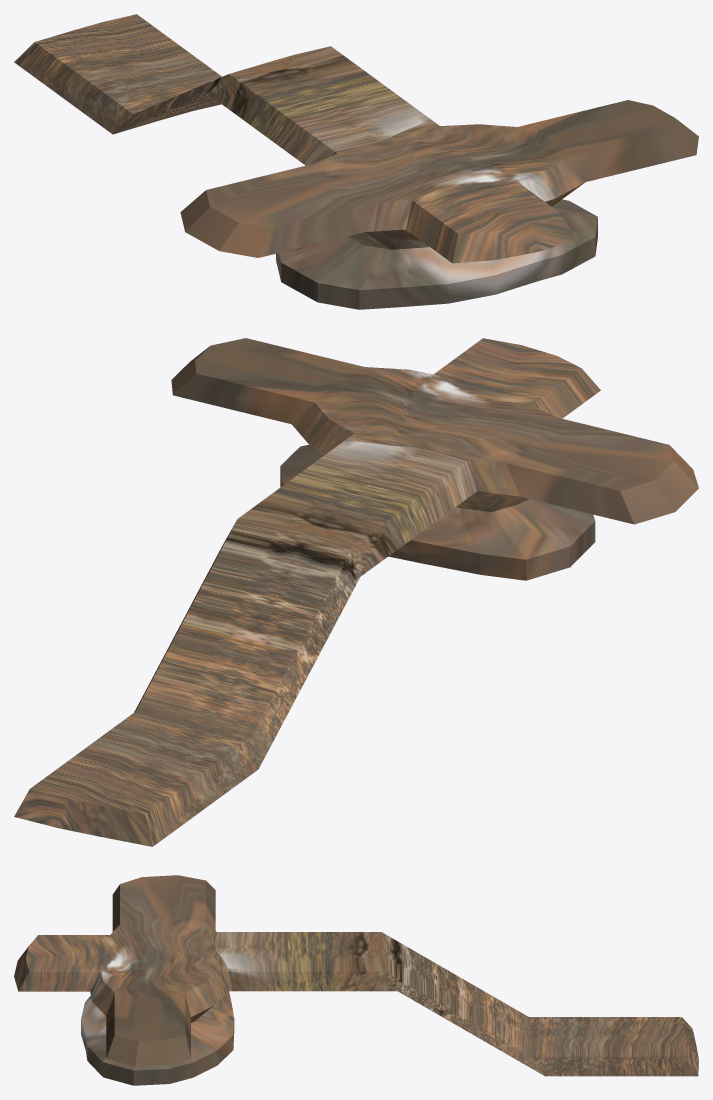
Rendered from crossIsland.fbx.
The picture shows the model from 3 angles, top to bottom: view 1: azimuth 30°, elevation 25°; view 2: azimuth 150°, elevation 25°; view 3: azimuth 270°, elevation 25°; orthographic projection. The views are drawn at different scales.
Parts seen in each view (by area): view 1: Vert; view 2: Vert; view 3: Vert.
Part boxes in pixels (bbox=[...]): Vert: bbox=[14, 14, 698, 309]; Vert: bbox=[14, 338, 698, 846]; Vert: bbox=[14, 875, 698, 1085].
Bounding box in the file's own units: 19658 × 5127 × 31137.
Materials: 1 (1 with a texture image).
